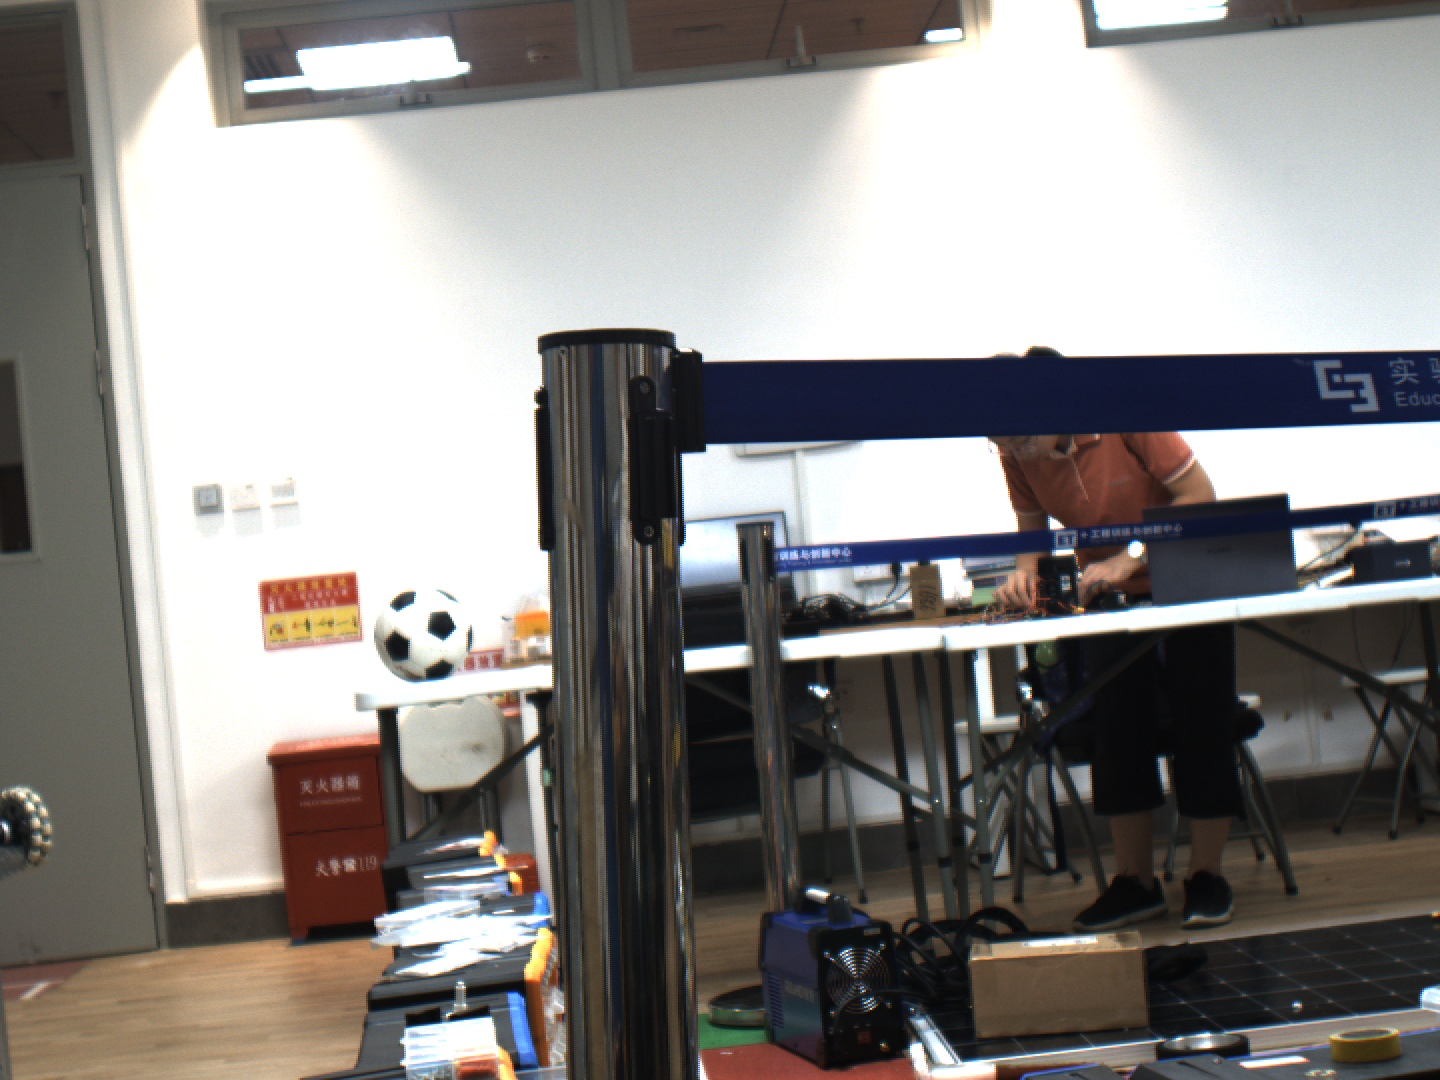ball: (364, 574, 491, 690)
